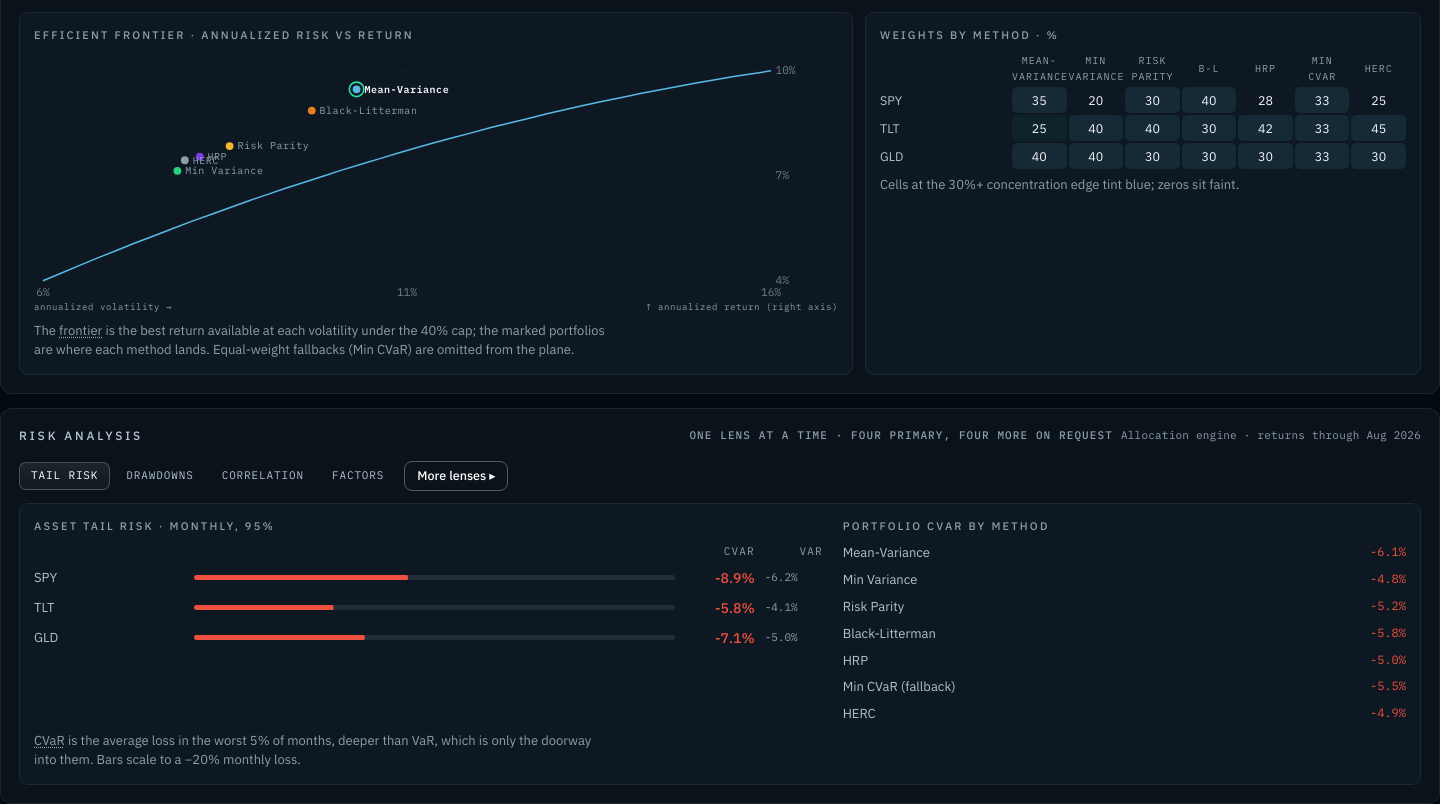
Test: RiskLenses (checklist 09 E.1 row 9) › StateNotes: an empty transition_pnl
(page scrolled)
Expected: the element with id "allocation-risk" is shown, [0, 408, 1439, 803]
Expected: the element named "Risk lens" is shown, [19, 462, 396, 490]
Click the button "More lenses ▸". click: (456, 476)
box: [404, 461, 508, 491]
(page scrolled)
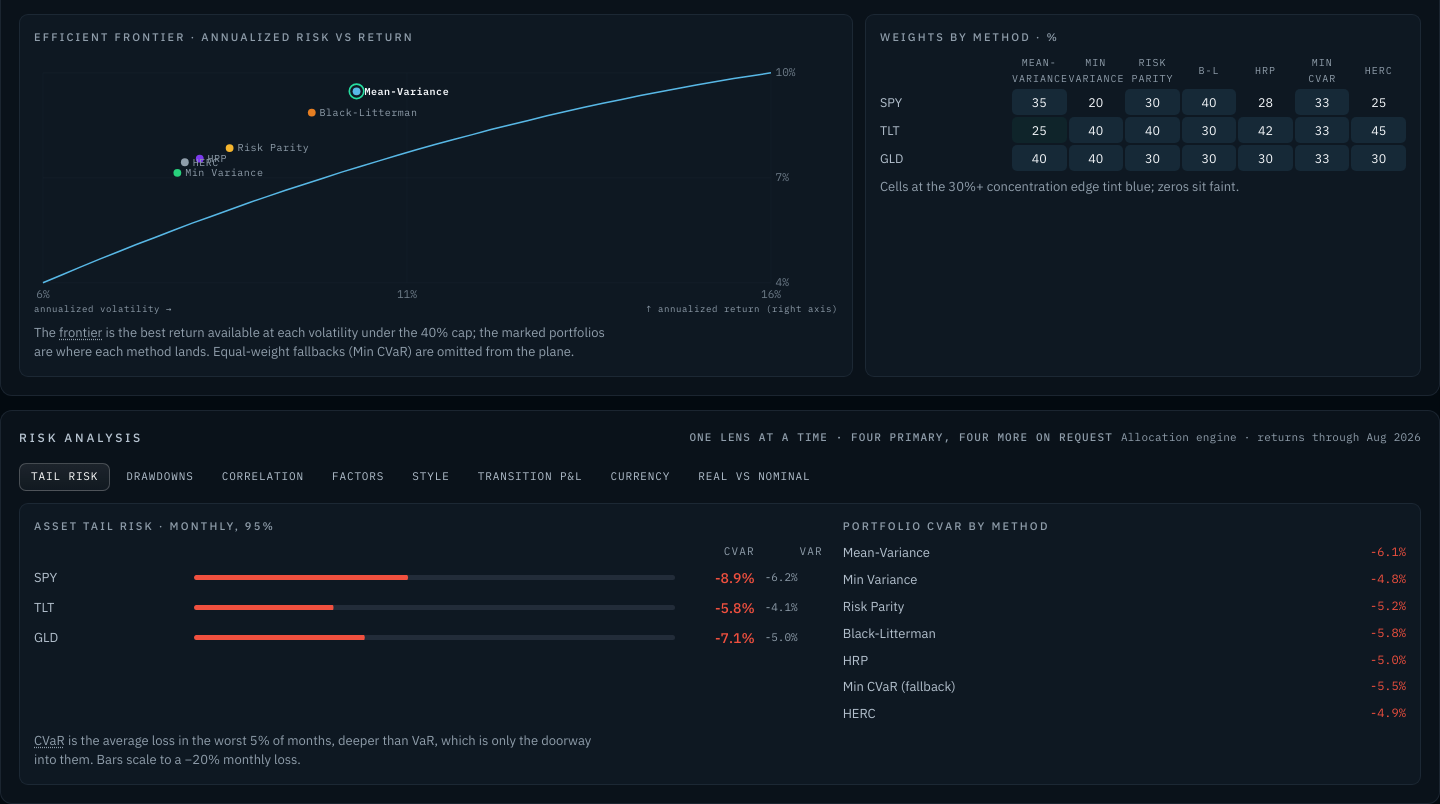
Click the button "Transition P&L". click: (530, 477)
box: [466, 463, 594, 491]
(page scrolled)
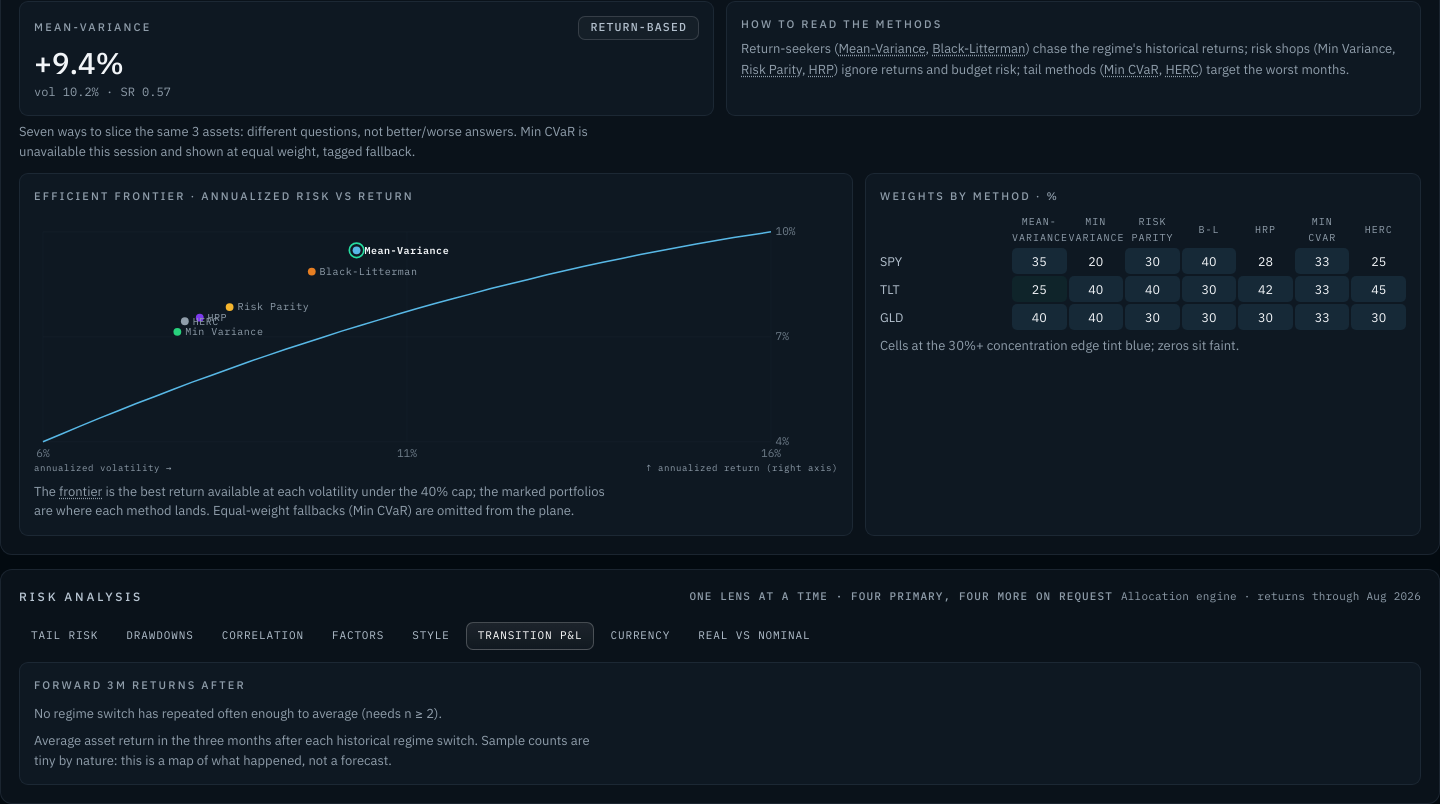
Now the element with id "allocation-risk" shows "No regime switch has repeated often enough to average (needs n ≥ 2).", box [34, 705, 442, 722]
Now no elements with class "mrr-meter-row" are shown
